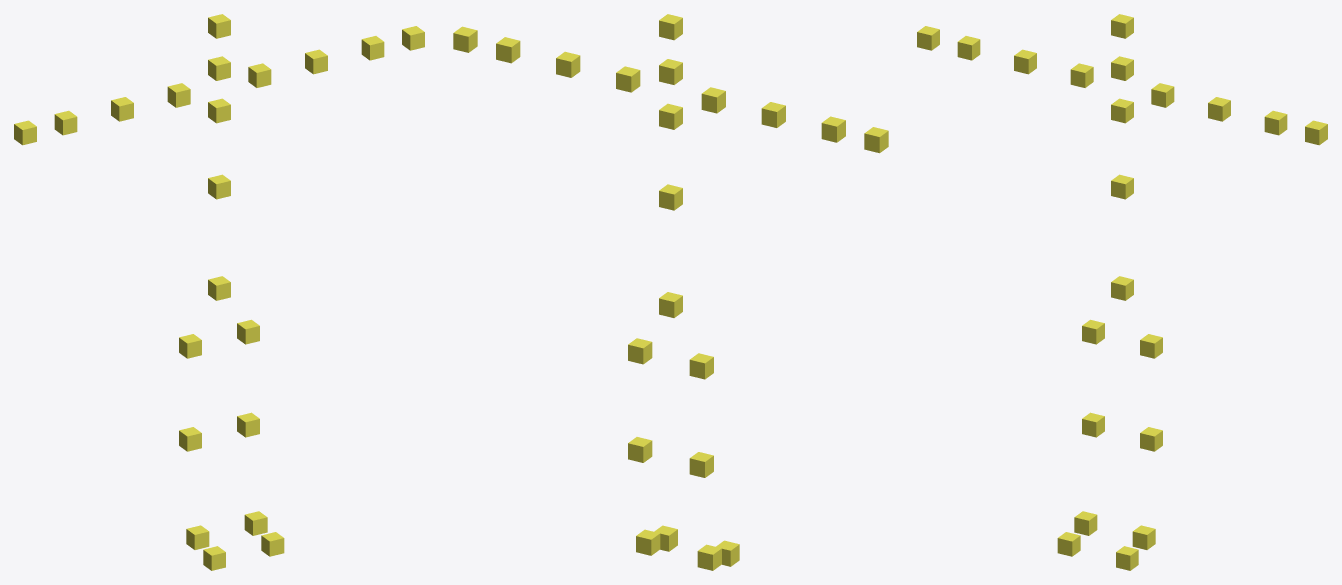
The model's file is skeleton.glb.
3 views of the same model, side by side, from view 1: azimuth 30°, elevation 25°; view 2: azimuth 150°, elevation 25°; view 3: azimuth 330°, elevation 25° (orthographic). The views are drawn at different scales.
Parts seen in each view (by area): view 1: no part large enough to name; view 2: LeftFoot, RightLeg, LeftUpLeg, RightHand, RightShoulder, LeftArm, RightFoot, RightUpLeg, RightForeArm, RightArm, LeftForeArm, LeftShoulder (+2 smaller); view 3: no part large enough to name.
Part boxes in pixels (bbox=[...]): LeftFoot: bbox=[697, 544, 721, 570]; RightLeg: bbox=[628, 437, 652, 462]; LeftUpLeg: bbox=[689, 353, 713, 379]; RightHand: bbox=[453, 26, 477, 52]; RightShoulder: bbox=[616, 66, 640, 92]; LeftArm: bbox=[761, 102, 785, 127]; RightFoot: bbox=[636, 529, 660, 555]; RightUpLeg: bbox=[628, 338, 652, 364]; RightForeArm: bbox=[496, 37, 520, 63]; RightArm: bbox=[556, 51, 580, 77]; LeftForeArm: bbox=[821, 116, 845, 142]; LeftShoulder: bbox=[701, 87, 725, 113].
Size of the model in its own units: 2.49 by 3.09 by 0.35.
